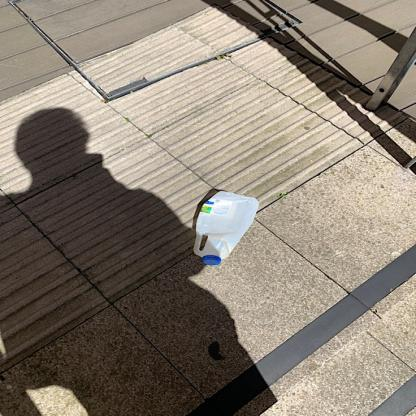trash: (189, 188, 261, 264)
